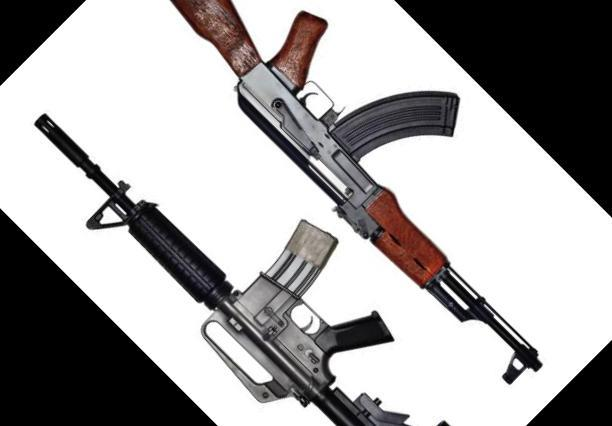larga: (166, 0, 545, 386), (33, 112, 452, 426)
